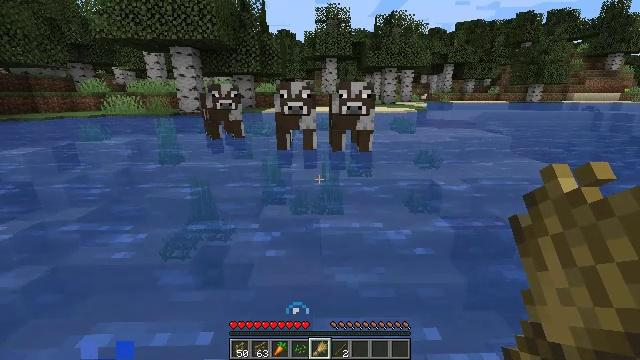cow: (329, 82, 374, 151), (274, 82, 318, 150), (201, 84, 245, 138)
